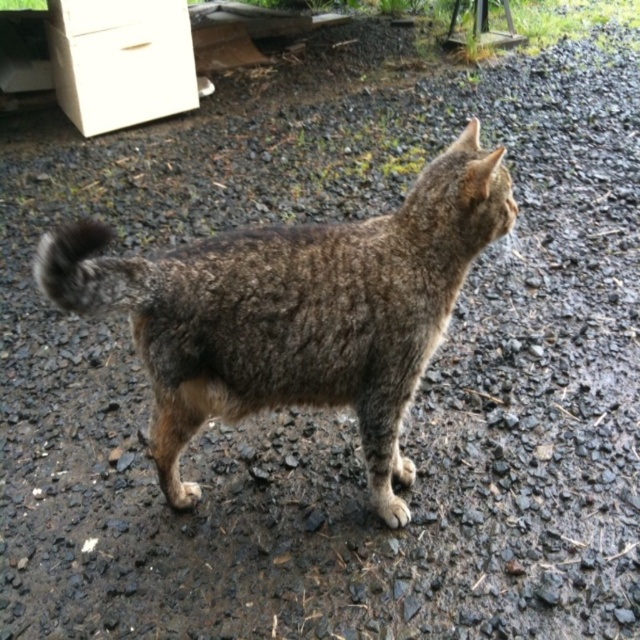Lynx: (33, 112, 520, 528)
